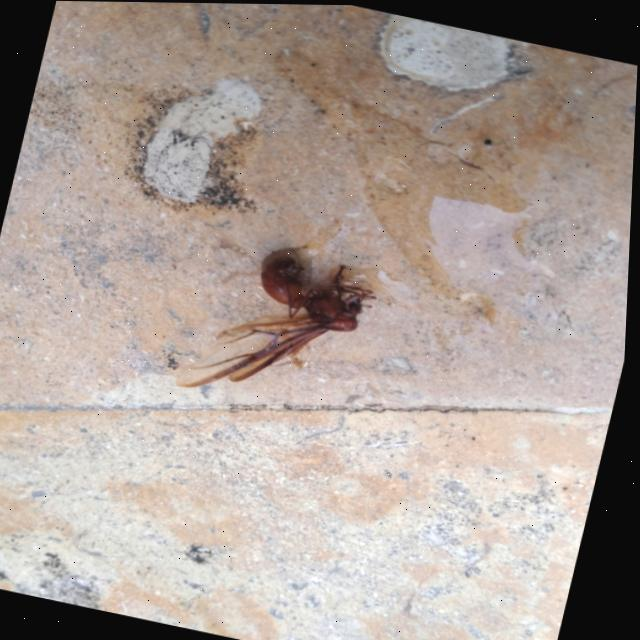Dead-Male-Alate: (177, 236, 386, 422)
